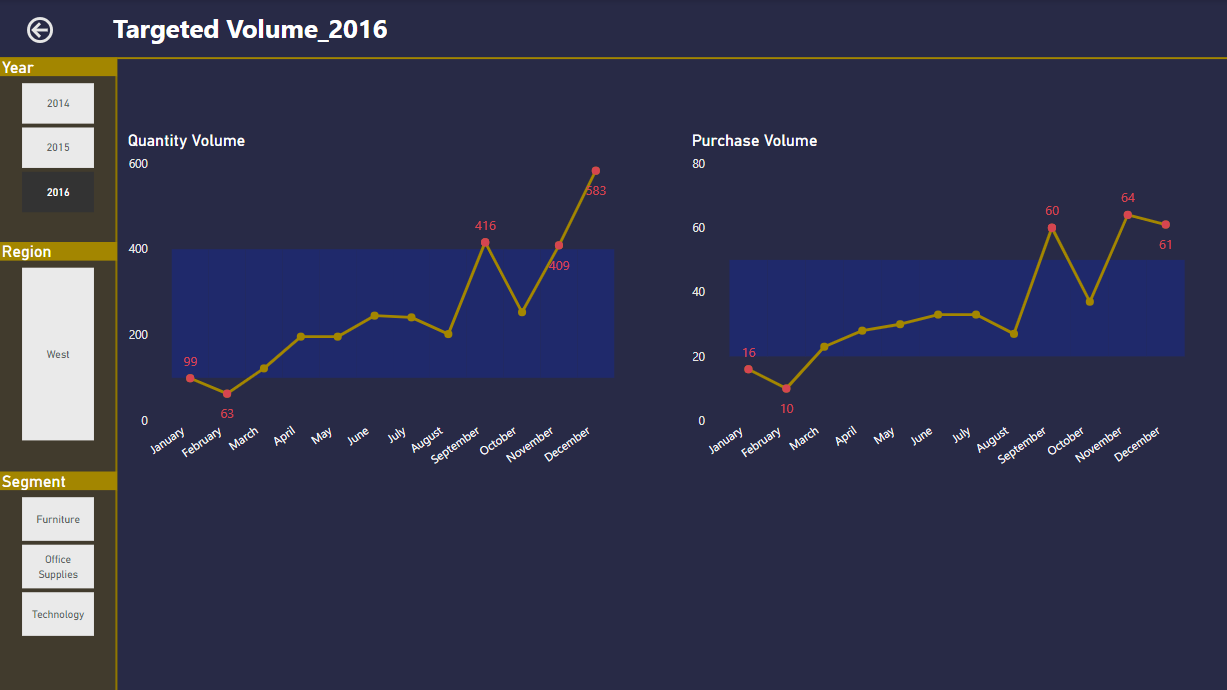

The page's visual inventory and layout, read from the dashboard file:
{"tool":"powerbi","page":{"name":"Location_Targeted Volume_2016","canvas":[1280,720],"ordinal":3},"visuals":[{"type":"shape","title":"Background Shape","box":[0,0,1280.2,720],"z":0},{"type":"shape","title":"Rectangle Slicer BG","box":[0,61.3,125.2,657.9],"z":0,"group":"g1"},{"type":"shape","box":[0,52.4,1280.2,16.9],"z":1000},{"type":"slicer","title":"Region","fields":{"Values":["Dimension Table_Location.Region"]},"box":[0,252.5,124.8,213.2],"z":1000,"group":"g1"},{"type":"slicer","title":"Year","fields":{"Values":["Calendar Table.Date.Variation.Date Hierarchy.Year"]},"box":[0,60.9,124.8,168],"z":2000,"group":"g1"},{"type":"shape","box":[119.9,61.3,8,658.7],"z":2000},{"type":"textbox","box":[115.4,6.2,325.8,55],"z":3000},{"type":"slicer","title":"Segment","fields":{"Values":["Dimension Table_Product.Product Category"]},"box":[0,490.2,124.8,177.8],"z":3000,"group":"g1"},{"type":"group","id":"g1","title":"Slicer Pane","box":[0,60.9,125.2,658.2],"z":5000},{"type":"lineStackedColumnComboChart","title":"Purchase Volume","fields":{"Category":["Calendar Table.Date.Variation.Date Hierarchy.Month","Calendar Table.Date.Variation.Date Hierarchy.Day"],"Y2":["Core Measures.Total Purchase","Core Measures.Purchase Volume Hightlight Outliers"],"Y":["Core Measures.Purchase Volume Lower Limit","Core Measures.Purchase Volume Height"]},"box":[716.4,137.6,537.1,368.4],"z":6000},{"type":"lineStackedColumnComboChart","title":"Quantity Volume","fields":{"Category":["Calendar Table.Date.Variation.Date Hierarchy.Month","Calendar Table.Date.Variation.Date Hierarchy.Day"],"Y2":["Core Measures.Total Quantity","Core Measures.Quantity Volume Hightlight Outliers"],"Y":["Core Measures.Order Volume Lower Limit","Core Measures.Order Volume Height"]},"box":[131.4,137.6,530,368.4],"z":7000},{"type":"actionButton","box":[26.6,13.3,42.6,36.4],"z":8000}]}

Visuals, with their boxes in screenshot pixels (x1, y1, x2, y2), scaled from the page's 1280x720 canvas onto the 1227x690 screenshot:
"Background Shape" shape: box=[0, 0, 1226, 689]
"Rectangle Slicer BG" shape: box=[0, 59, 120, 689]
shape: box=[0, 50, 1226, 66]
"Region" slicer: box=[0, 242, 120, 446]
"Year" slicer: box=[0, 58, 120, 219]
shape: box=[115, 59, 123, 689]
textbox: box=[111, 6, 423, 59]
"Segment" slicer: box=[0, 470, 120, 640]
"Slicer Pane" group: box=[0, 58, 120, 689]
"Purchase Volume" lineStackedColumnComboChart: box=[687, 132, 1202, 485]
"Quantity Volume" lineStackedColumnComboChart: box=[126, 132, 634, 485]
actionButton: box=[25, 13, 66, 48]
